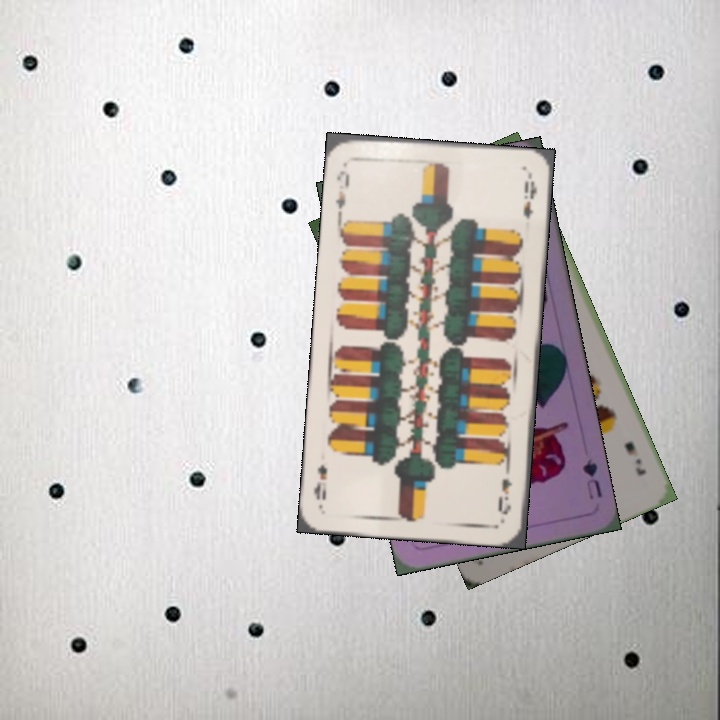E7: (620, 437, 649, 479)
E9: (494, 462, 514, 517), (332, 166, 352, 218)
GU: (578, 455, 605, 502)
